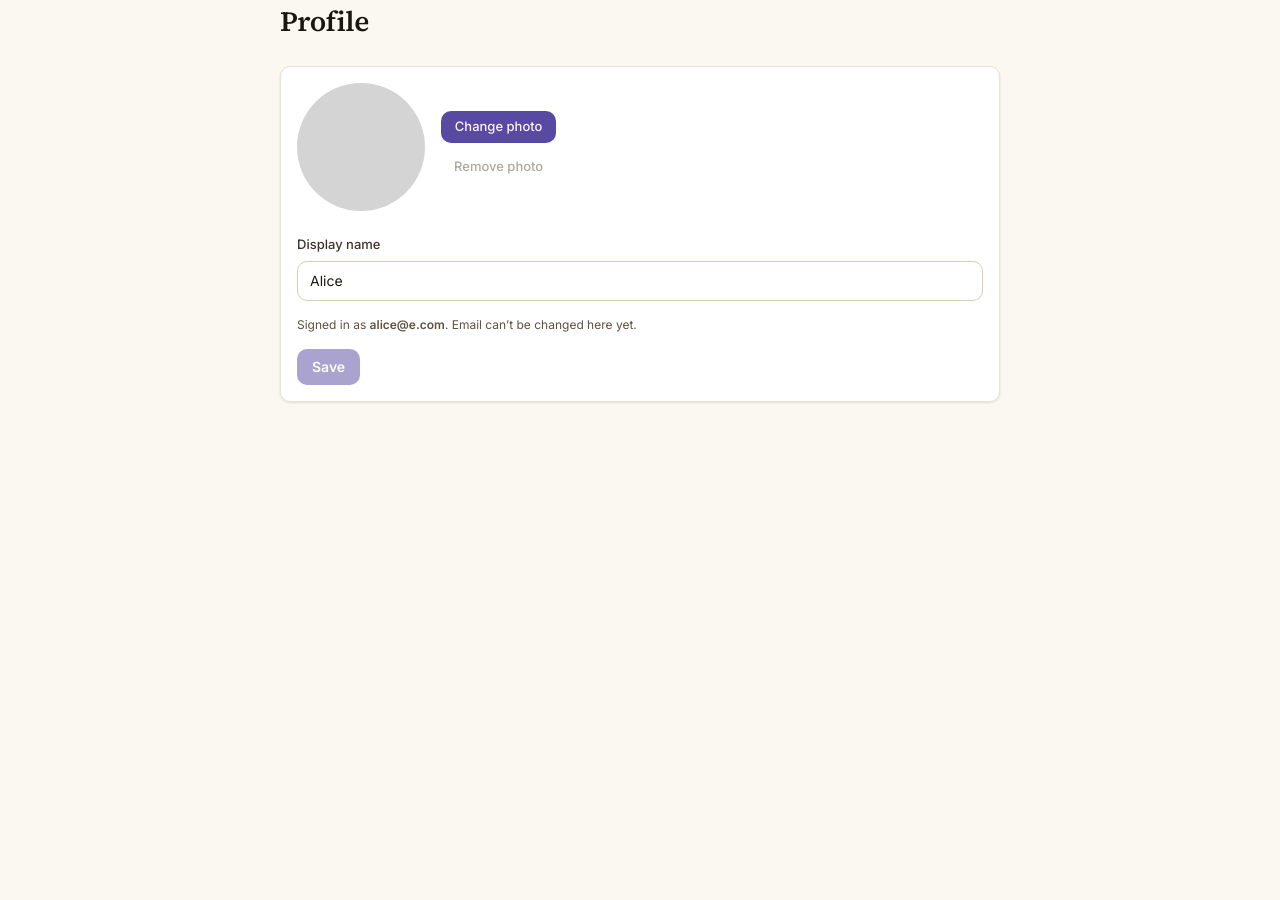
Test case: ProfilePage › opens AvatarCropDialog on Change photo click
Click the button "Change photo". click: (499,127)
box: top-left (441, 111), bottom-right (556, 143)
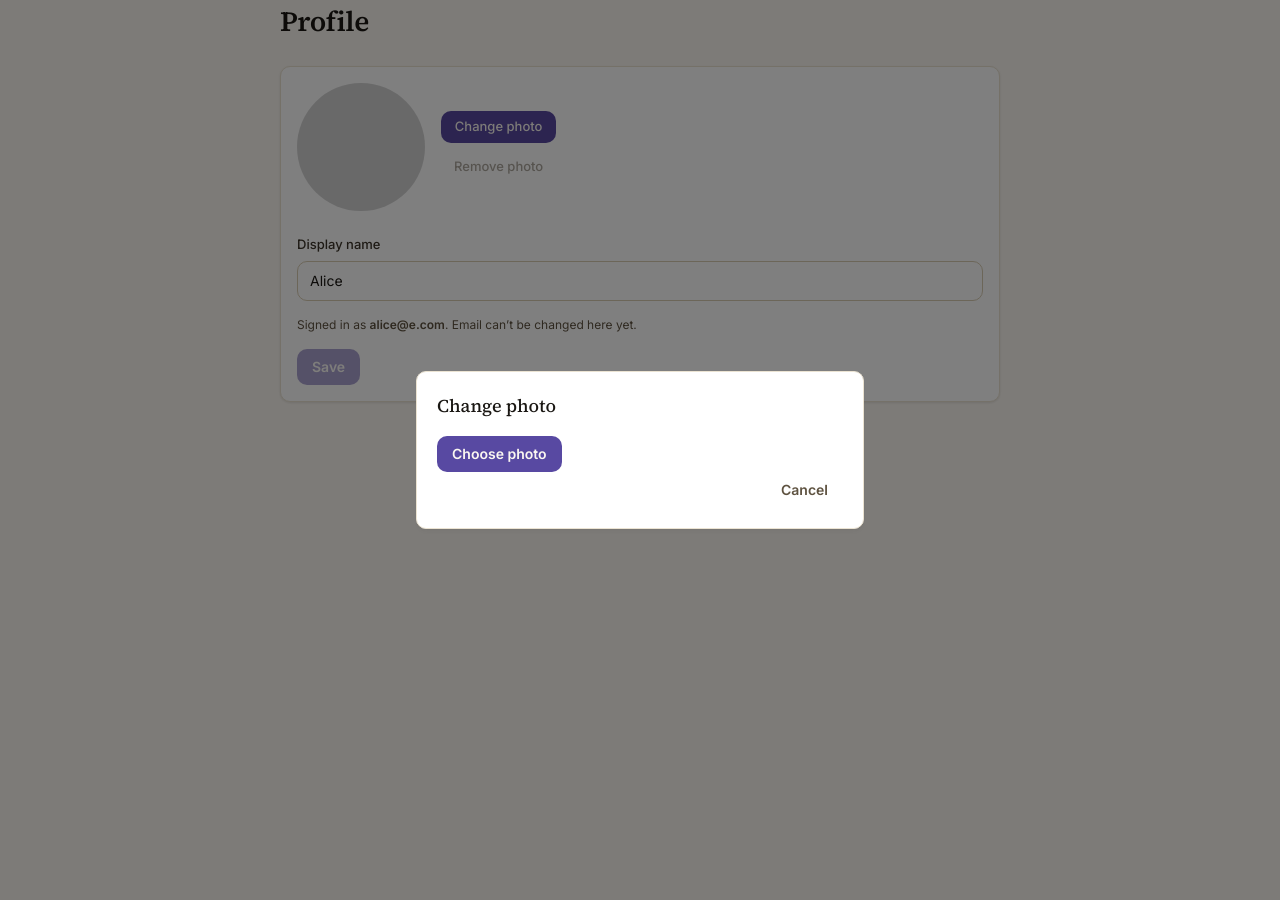
Expected: the dialog "Change photo Choose photo Cancel" is shown
